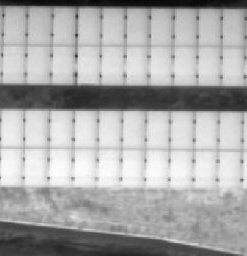solar: (46, 109, 76, 151), (26, 4, 55, 46), (49, 4, 78, 46), (74, 4, 103, 46), (99, 4, 128, 46), (123, 4, 152, 46), (148, 6, 177, 48), (171, 6, 200, 48), (195, 7, 224, 49), (218, 7, 247, 49), (218, 44, 247, 86), (195, 43, 224, 85), (171, 43, 200, 85), (147, 44, 176, 86), (123, 44, 152, 86), (99, 43, 128, 85), (73, 43, 102, 85), (49, 43, 78, 85), (25, 43, 54, 85), (23, 108, 52, 150), (73, 108, 102, 150), (96, 108, 125, 150), (121, 108, 150, 150), (144, 109, 173, 151), (168, 109, 197, 151), (192, 109, 221, 151), (218, 109, 247, 151), (216, 147, 245, 189), (191, 147, 220, 189), (167, 147, 196, 189), (143, 147, 172, 189), (119, 147, 148, 189), (95, 147, 124, 189), (71, 147, 100, 189), (47, 147, 76, 189), (22, 147, 51, 189), (1, 4, 29, 46), (1, 42, 29, 84), (1, 107, 29, 149), (1, 147, 28, 189)
